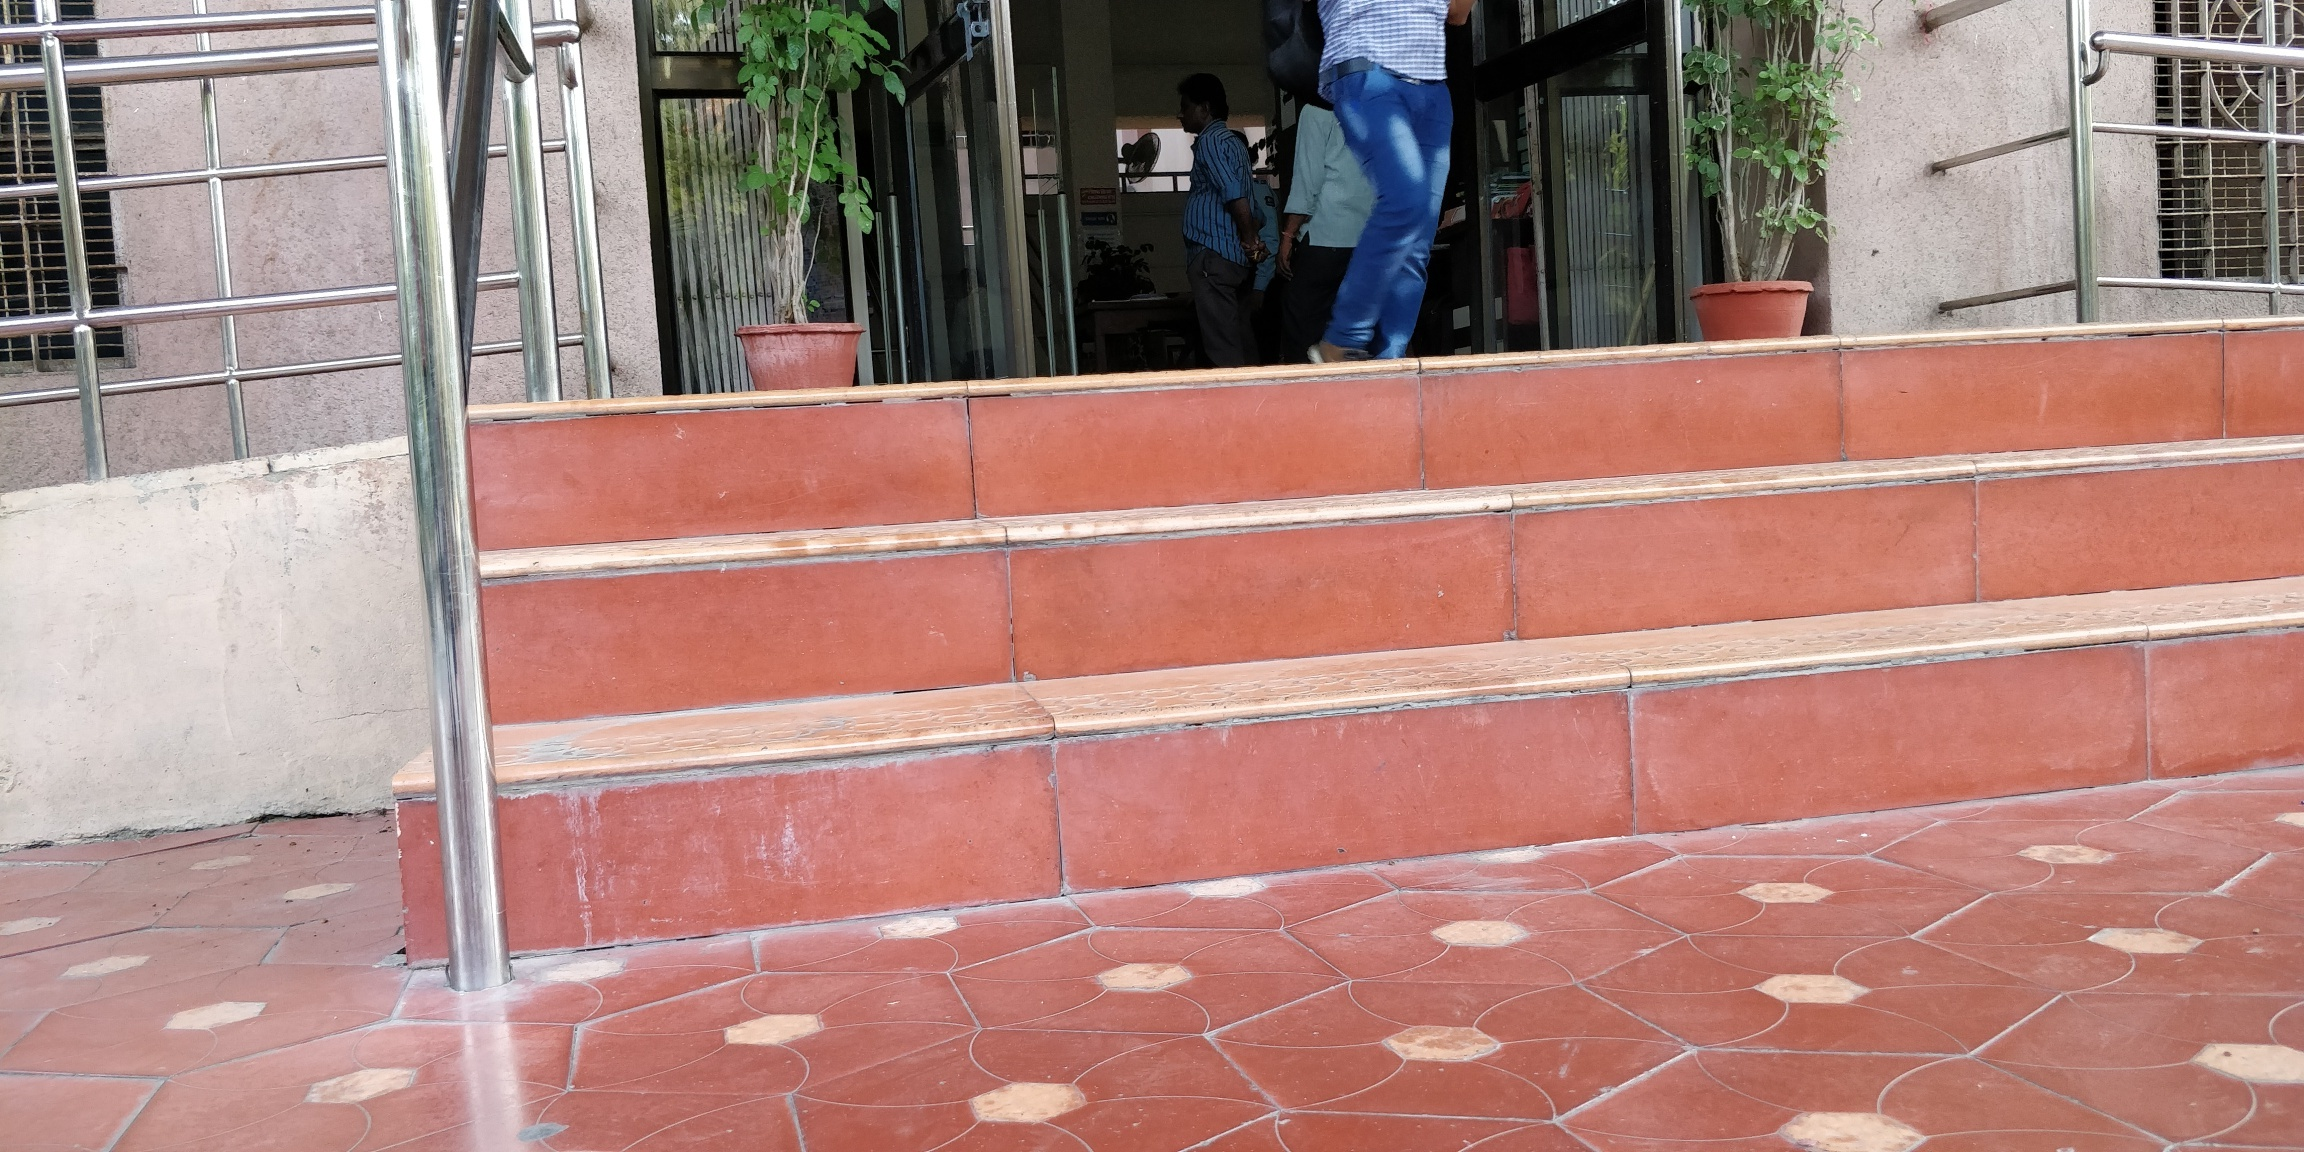stairs_up: (394, 360, 2304, 943)
